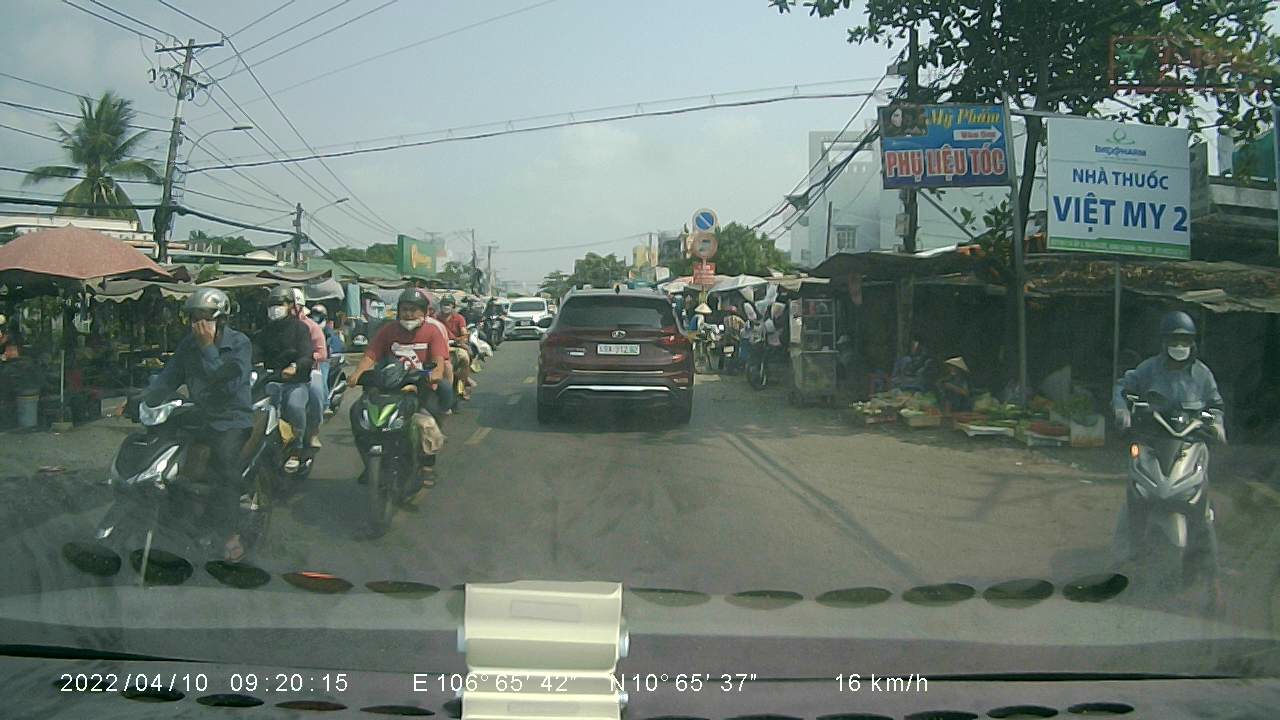Bien khac: (688, 232, 717, 259)
Cam do xe: (690, 202, 719, 229)
